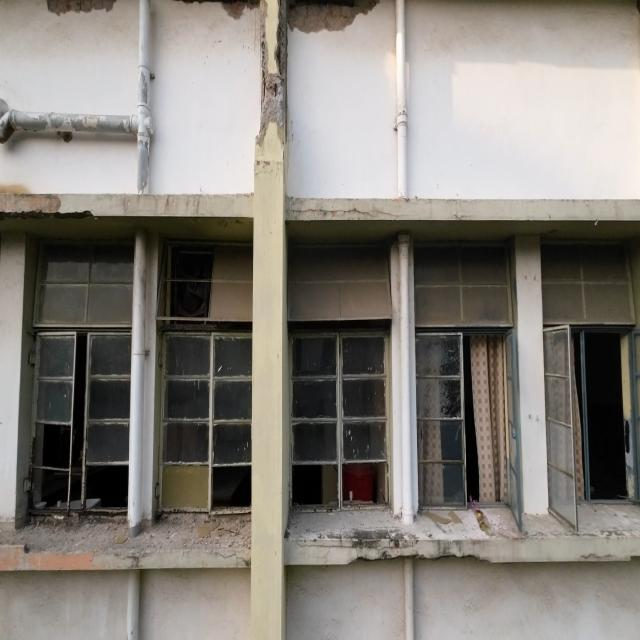spalling: (256, 73, 284, 140)
stain_mould: (285, 505, 640, 565), (0, 532, 249, 571), (0, 193, 61, 215)
